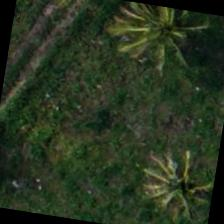Kelapa_Sawit: (122, 135, 220, 223), (103, 0, 203, 79)
